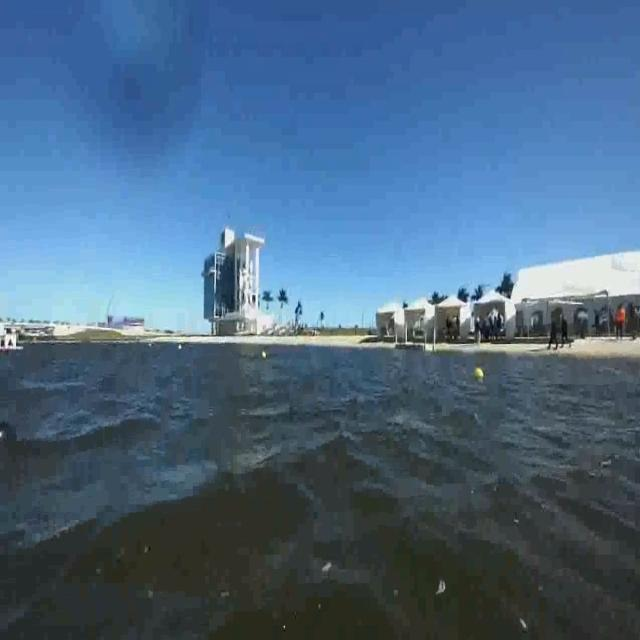black-buoy: (0, 422, 19, 487)
yellow-buoy: (473, 364, 484, 379)
